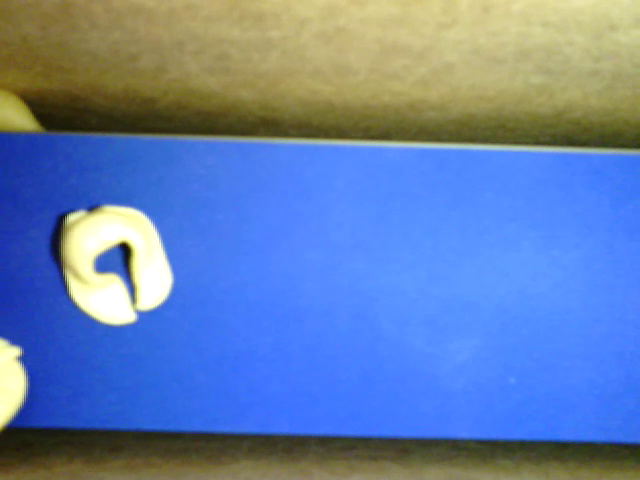shell: (1, 90, 46, 134)
tortellini: (60, 204, 175, 326), (1, 335, 27, 439)
